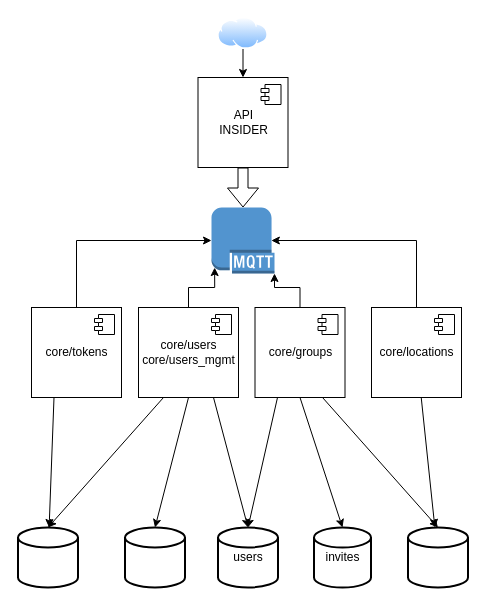
This 486x605 diagram has some shape labels left out. The shapes that lost their labels are listed below. From the top down, each one's centre as x and y in pixels, then its label:
At [47,557]: "tokens".
At [155,557]: "logins".
At [437,557]: "groups".
